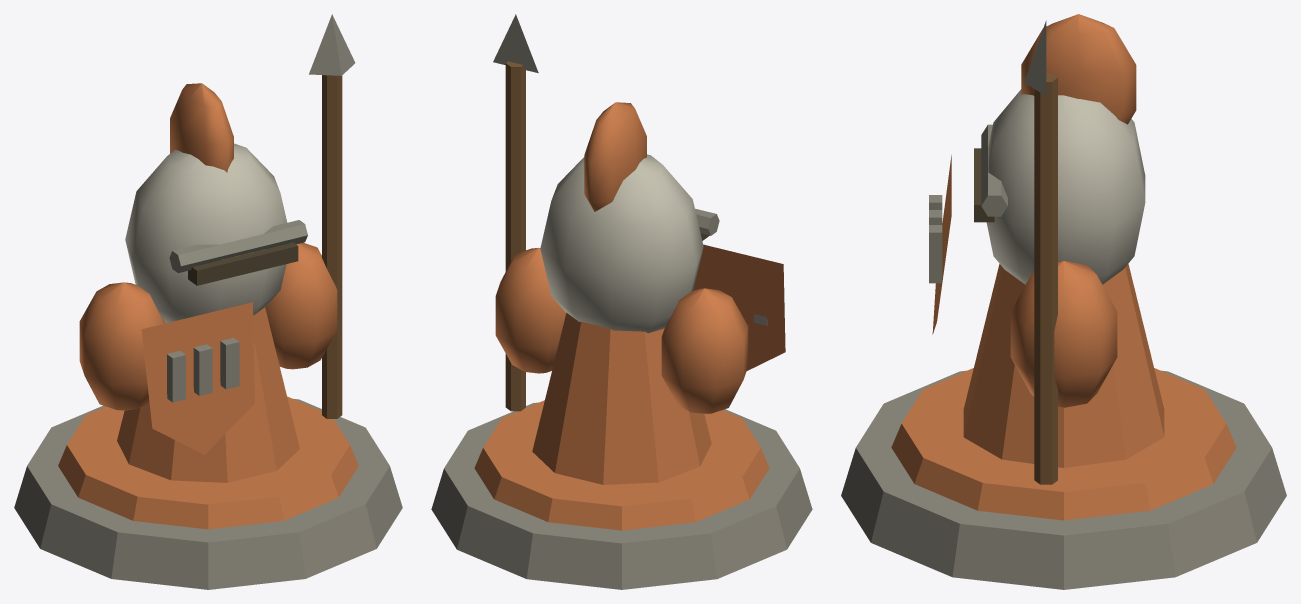
File: knight-3-0.glb
3 renders of one model, left to right at view 1: azimuth 30°, elevation 25°; view 2: azimuth 150°, elevation 25°; view 3: azimuth 270°, elevation 25°, orthographic. The views are drawn at different scales.
Visible parts, largest first — view 1: knight-3-0.001, knight-3-0, knight-3-0.002, knight-3-0.004, knight-3-0.003; view 2: knight-3-0.001, knight-3-0, knight-3-0.002, knight-3-0.004; view 3: knight-3-0.001, knight-3-0, knight-3-0.002, knight-3-0.004, knight-3-0.003.
Boxes of the visible parts, x1=… form: knight-3-0.001: x1=58, y1=83, x2=358, y2=529; knight-3-0: x1=14, y1=14, x2=402, y2=589; knight-3-0.002: x1=125, y1=143, x2=287, y2=323; knight-3-0.004: x1=322, y1=75, x2=342, y2=418; knight-3-0.003: x1=188, y1=242, x2=298, y2=285; knight-3-0.001: x1=474, y1=102, x2=785, y2=530; knight-3-0: x1=431, y1=14, x2=812, y2=589; knight-3-0.002: x1=540, y1=154, x2=703, y2=333; knight-3-0.004: x1=505, y1=61, x2=525, y2=411; knight-3-0.001: x1=891, y1=14, x2=1236, y2=520; knight-3-0: x1=841, y1=20, x2=1286, y2=589; knight-3-0.002: x1=986, y1=89, x2=1145, y2=284; knight-3-0.004: x1=1034, y1=73, x2=1057, y2=484; knight-3-0.003: x1=974, y1=148, x2=994, y2=222.
Bounding box in the file's own units: 0.302 × 0.404 × 0.302.
